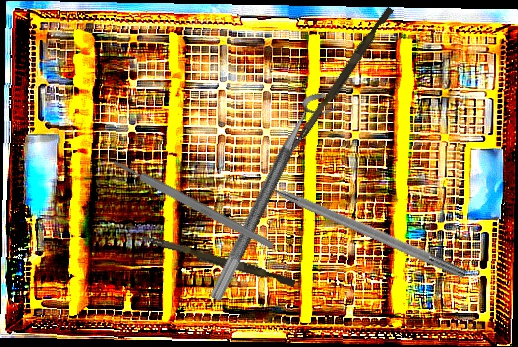Fixation Ring: (207, 86, 342, 311)
Hook Surgical: (244, 170, 469, 280)
Pusher: (288, 3, 394, 159), (133, 232, 297, 288)
Scalpel Handle: (112, 157, 275, 251)
